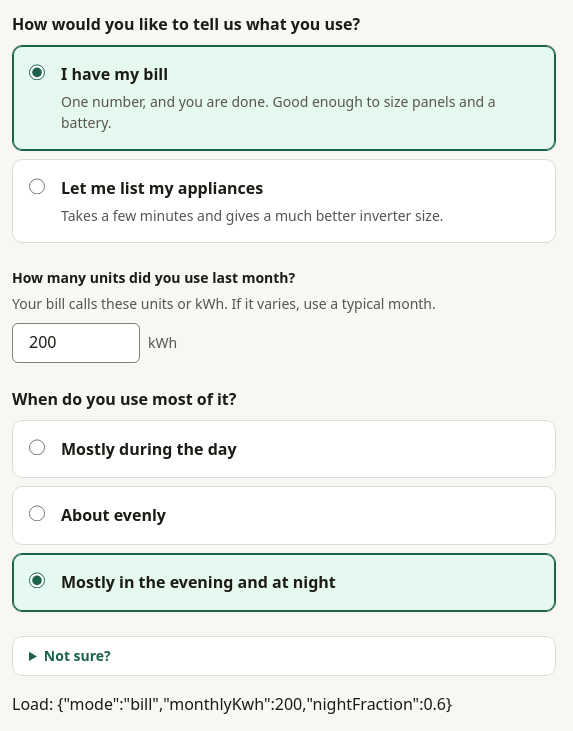
Test: StepUsage › shows no rows until one is asked for
Click the radio button labelled "list my appliances".
click(37, 186)  # box left=29, top=178, right=45, bottom=194
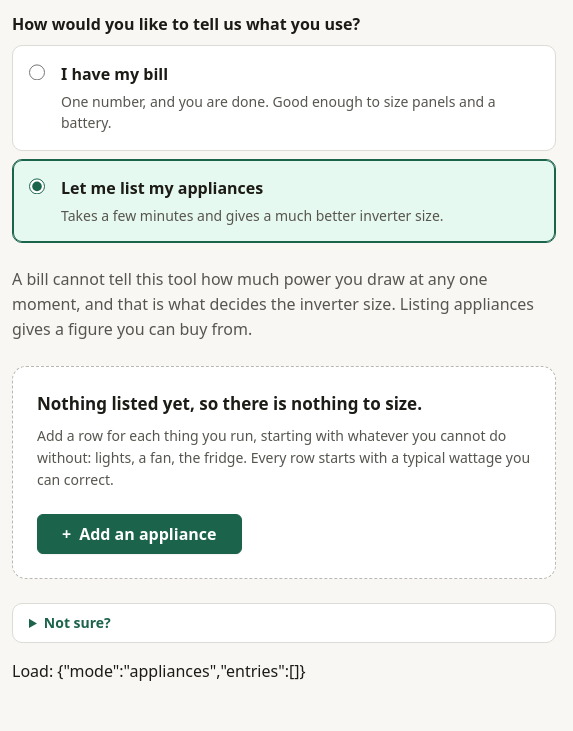
Check: the text "Nothing listed yet, so there is nothing to size." is shown, box left=37, top=392, right=422, bottom=415
